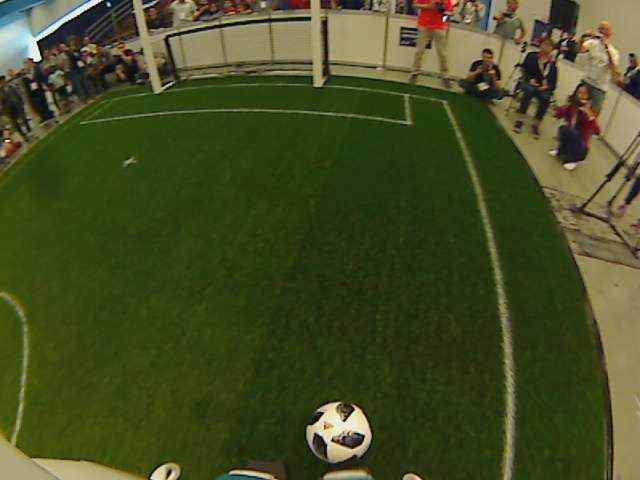ball: (304, 399, 374, 466)
